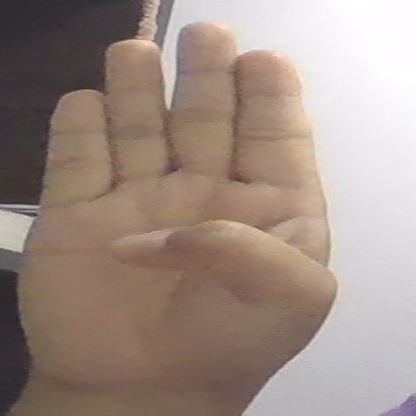B: (16, 21, 338, 409)
